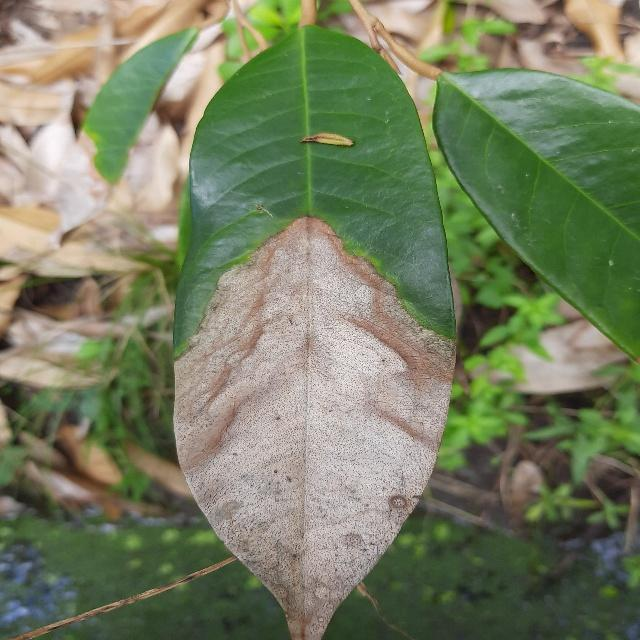Leaf Blight: (164, 17, 465, 640)
